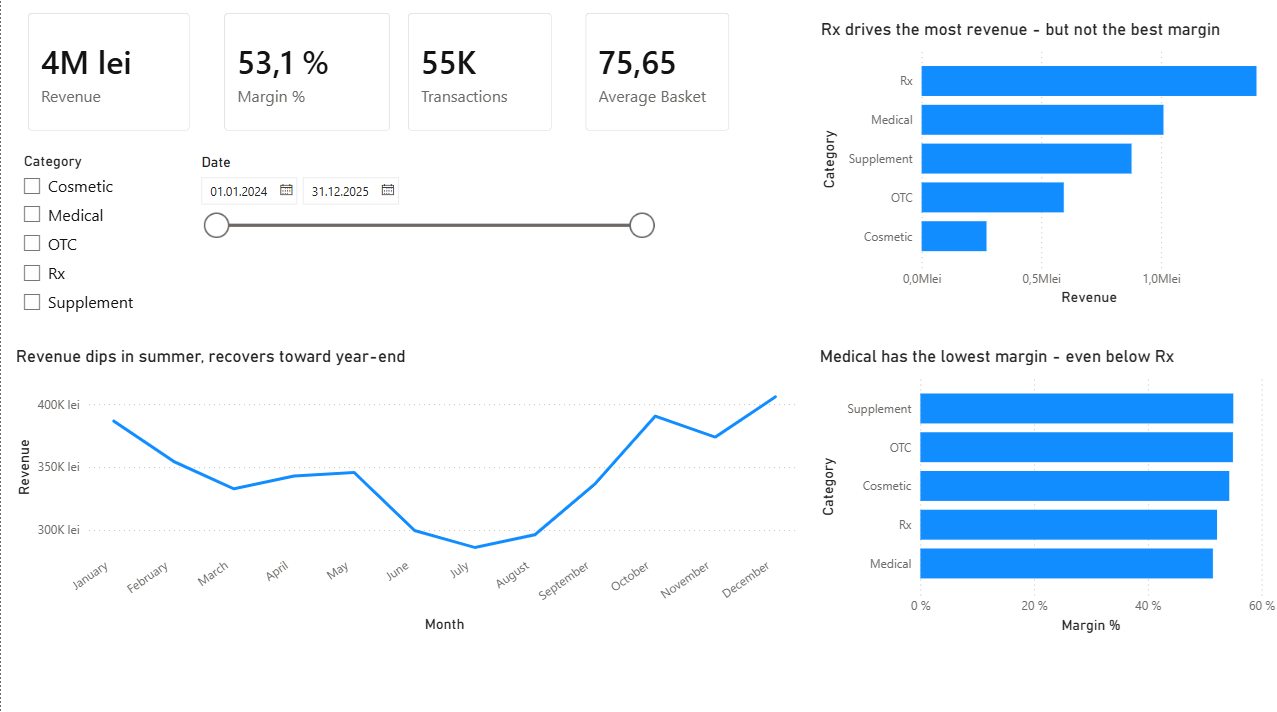

What the dashboard file says about the page in this screenshot:
{"tool":"powerbi","page":{"name":"Revenue trending","canvas":[1280,720],"ordinal":0},"visuals":[{"type":"cardVisual","fields":{"Data":["FactSales.Revenue"]},"box":[10,0,196,152],"z":0},{"type":"cardVisual","fields":{"Data":["FactSales.Margin %"]},"box":[206,0,200,152],"z":1000},{"type":"cardVisual","fields":{"Data":["FactSales.Transactions"]},"box":[390,0,178,152],"z":2000},{"type":"cardVisual","fields":{"Data":["FactSales.Average Basket"]},"box":[567.5,0,178.8,152.5],"z":3000},{"type":"lineChart","title":"Revenue dips in summer, recovers toward year-end","fields":{"Category":["DimDate.Date.Variation.Date Hierarchy.Year","DimDate.Date.Variation.Date Hierarchy.Quarter","DimDate.Date.Variation.Date Hierarchy.Month","DimDate.Date.Variation.Date Hierarchy.Day"],"Y":["FactSales.Revenue"]},"box":[10,350,793.8,291.2],"z":4000},{"type":"barChart","title":"Rx drives the most revenue - but not the best margin","fields":{"Category":["DimProduct.Category"],"Y":["FactSales.Revenue"]},"box":[814.4,22,465.9,292.3],"z":5000},{"type":"barChart","title":"Medical has the lowest margin - even below Rx","fields":{"Category":["DimProduct.Category"],"Y":["FactSales.Margin %"]},"box":[814,350,466,292],"z":6000},{"type":"slicer","fields":{"Values":["DimProduct.Category"]},"box":[10,151.2,165,198.8],"z":7000},{"type":"slicer","fields":{"Values":["DimDate.Date"]},"box":[187.5,152.5,475,198.8],"z":8000}]}

Visuals, with their boxes in screenshot pixels (x1, y1, x2, y2), scaled from the page's 1280x720 canvas onto the 1277x712 screenshot:
cardVisual - FactSales.Revenue: box(10, 0, 206, 150)
cardVisual - FactSales.Margin %: box(206, 0, 405, 150)
cardVisual - FactSales.Transactions: box(389, 0, 567, 150)
cardVisual - FactSales.Average Basket: box(566, 0, 745, 151)
"Revenue dips in summer, recovers toward year-end" lineChart: box(10, 346, 802, 634)
"Rx drives the most revenue - but not the best margin" barChart: box(812, 22, 1276, 311)
"Medical has the lowest margin - even below Rx" barChart: box(812, 346, 1276, 635)
slicer - DimProduct.Category: box(10, 150, 175, 346)
slicer - DimDate.Date: box(187, 151, 661, 347)
